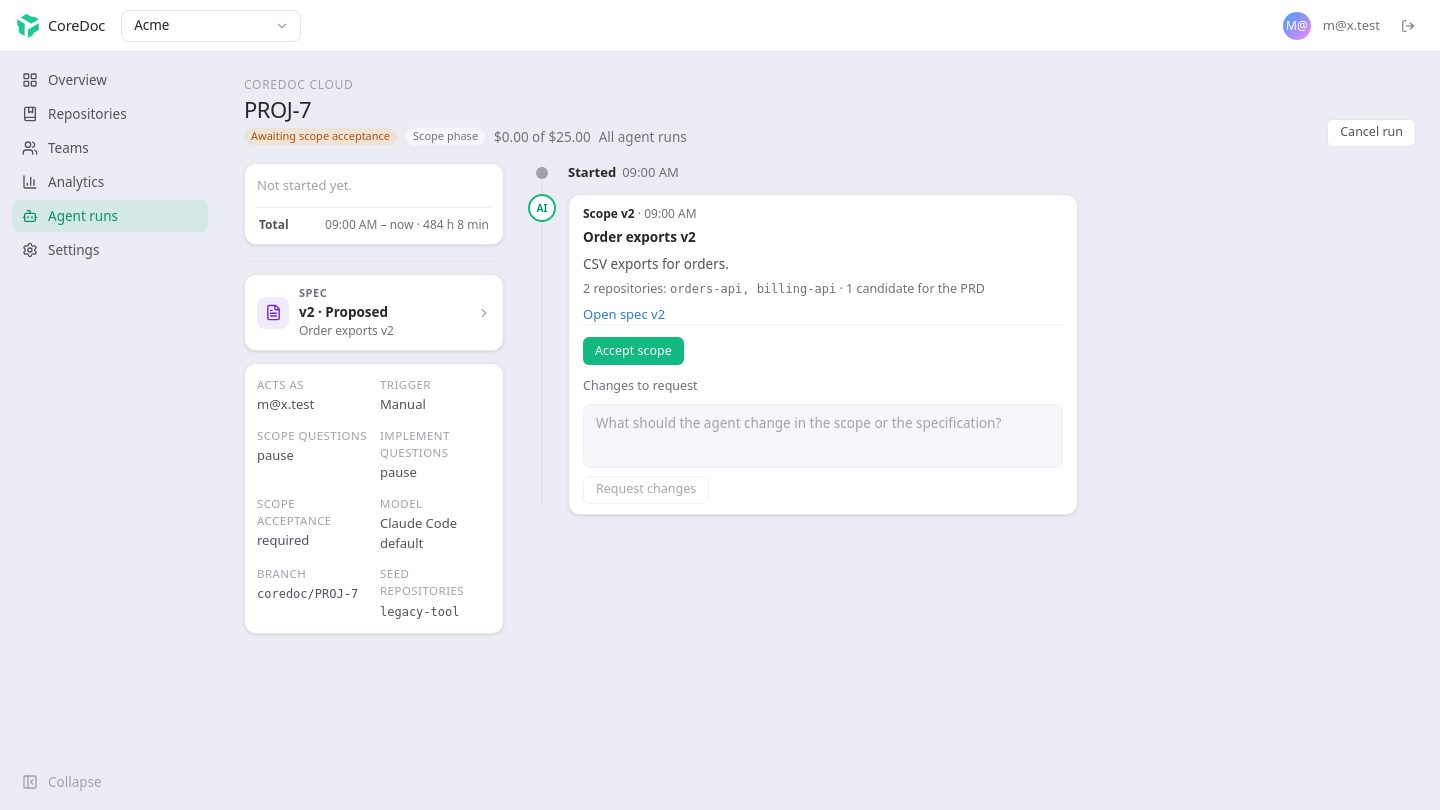
it: agent runs routes › scope review › opens the spec in a drawer: repositories with eligibility, dropped seeds and candidates
Click the button with aria-label "Spec: v2 · Proposed" at (374, 313), box [244, 274, 504, 351]
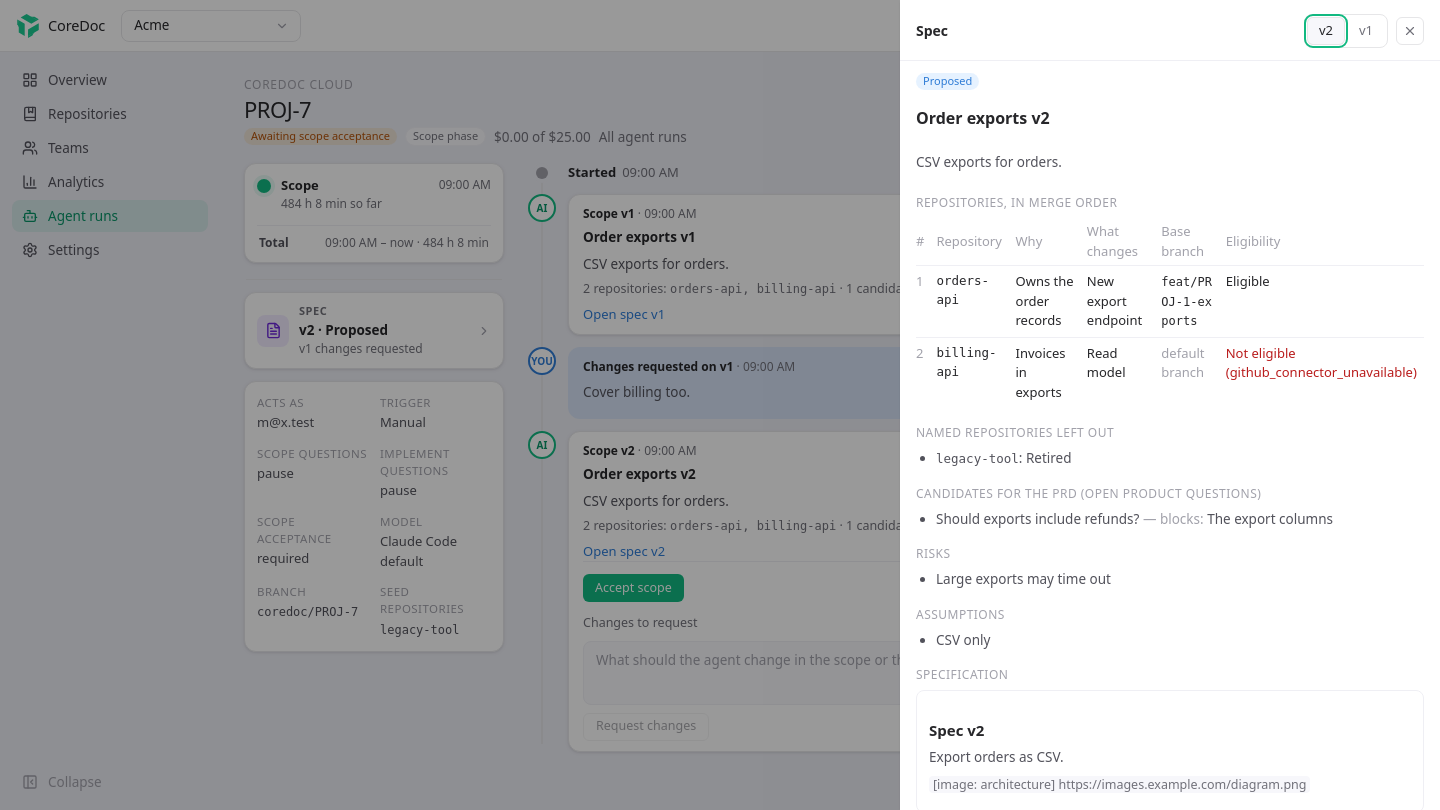
Now the row that starts with "orders-api" is shown, box [936, 273, 989, 307]
Now the row that starts with "orders-api" shows "Owns the order records", box [1016, 272, 1074, 329]
Now the row that starts with "orders-api" shows "feat/PROJ-1-exports", box [1161, 275, 1212, 328]
